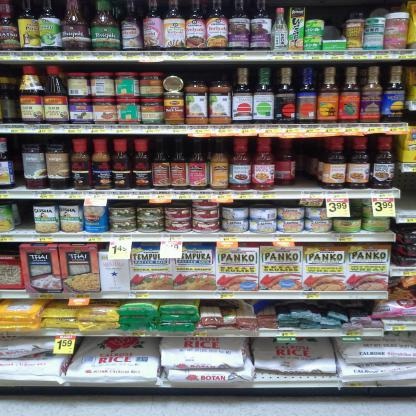Void: (289, 135, 317, 184), (396, 180, 414, 218), (332, 3, 348, 37)
